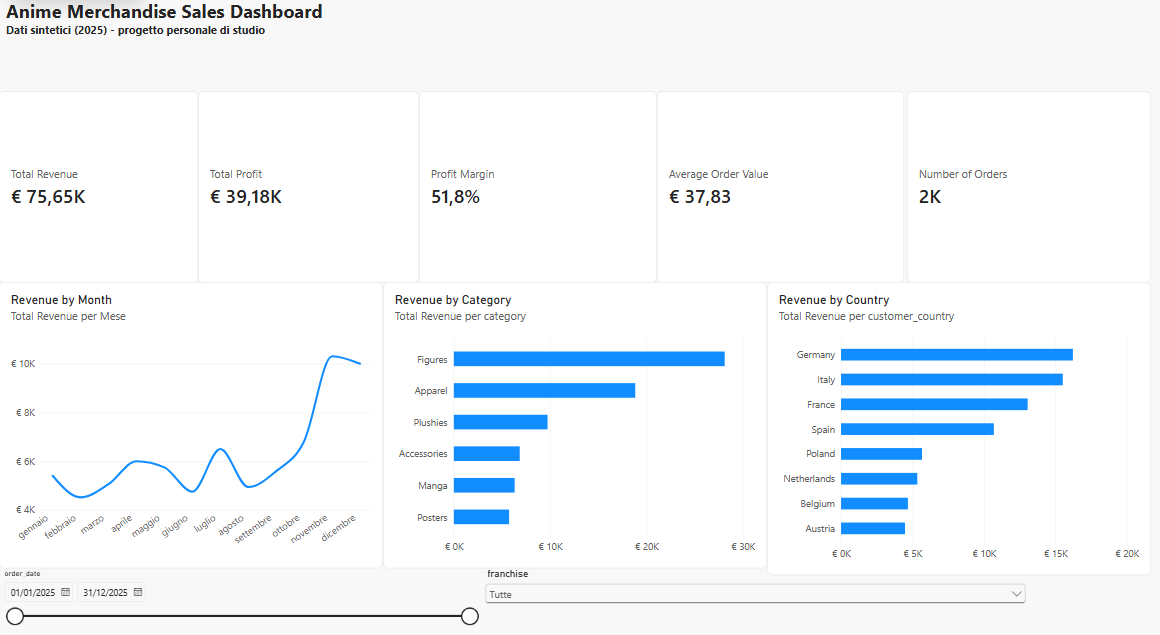

What the dashboard file says about the page in this screenshot:
{"tool":"powerbi","page":{"name":"Overview","canvas":[1920,1080],"ordinal":0},"visuals":[{"type":"cardVisual","fields":{"Data":["Sales.Total Revenue"]},"box":[0,135,290,280],"z":0},{"type":"cardVisual","fields":{"Data":["Sales.Total Profit"]},"box":[290,135,322.5,280],"z":1},{"type":"cardVisual","fields":{"Data":["Sales.Profit Margin"]},"box":[612.9,135.7,347.1,280],"z":2},{"type":"cardVisual","fields":{"Data":["Sales.Number of Orders"]},"box":[1324.3,135.7,356.2,280],"z":3},{"type":"cardVisual","fields":{"Data":["Sales.Average Order Value"]},"box":[960,135.7,360,280],"z":4},{"type":"lineChart","title":"Revenue by Month","fields":{"Category":["Sales.order_date.Variation.Gerarchia data.Mese"],"Y":["Sales.Total Revenue"]},"box":[0,415,560,417.5],"z":5},{"type":"clusteredBarChart","title":"Revenue by Category","fields":{"Category":["Sales.category"],"Y":["Sales.Total Revenue"]},"box":[560,415,560,417.5],"z":6},{"type":"clusteredBarChart","title":"Revenue by Country","fields":{"Category":["Sales.customer_country"],"Y":["Sales.Total Revenue"]},"box":[1120,415,560,427.5],"z":7},{"type":"slicer","fields":{"Values":["Sales.order_date"]},"box":[0,833.1,703.2,110.9],"z":8},{"type":"slicer","fields":{"Values":["Sales.franchise"]},"box":[704.7,831.6,798.1,110.9],"z":9},{"type":"textbox","box":[10,0,560,113.8],"z":10}]}

Visuals, with their boxes in screenshot pixels (x1, y1, x2, y2), scaled from the page's 1920x1080 canvas onto the 1160x635 screenshot:
cardVisual - Sales.Total Revenue: detection(0, 79, 175, 244)
cardVisual - Sales.Total Profit: detection(175, 79, 370, 244)
cardVisual - Sales.Profit Margin: detection(370, 80, 580, 244)
cardVisual - Sales.Number of Orders: detection(800, 80, 1015, 244)
cardVisual - Sales.Average Order Value: detection(580, 80, 798, 244)
"Revenue by Month" lineChart: detection(0, 244, 338, 489)
"Revenue by Category" clusteredBarChart: detection(338, 244, 677, 489)
"Revenue by Country" clusteredBarChart: detection(677, 244, 1015, 495)
slicer - Sales.order_date: detection(0, 490, 425, 555)
slicer - Sales.franchise: detection(426, 489, 908, 554)
textbox: detection(6, 0, 344, 67)
